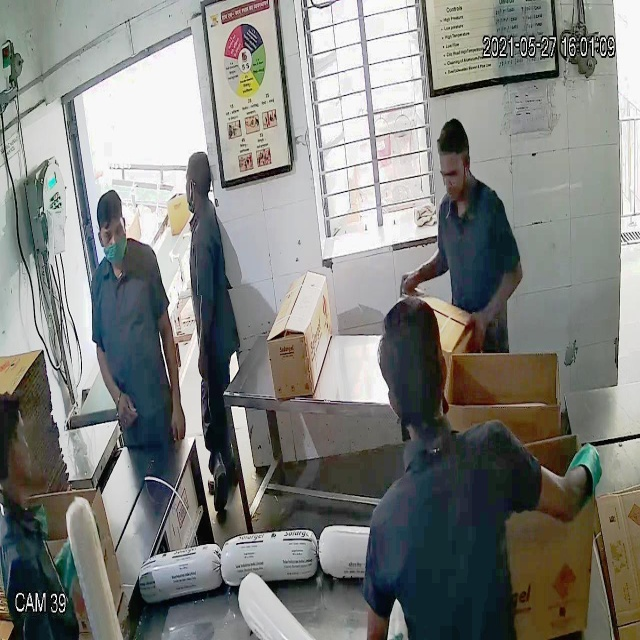Sin_gafas: (94, 219, 130, 251), (434, 159, 471, 187)
